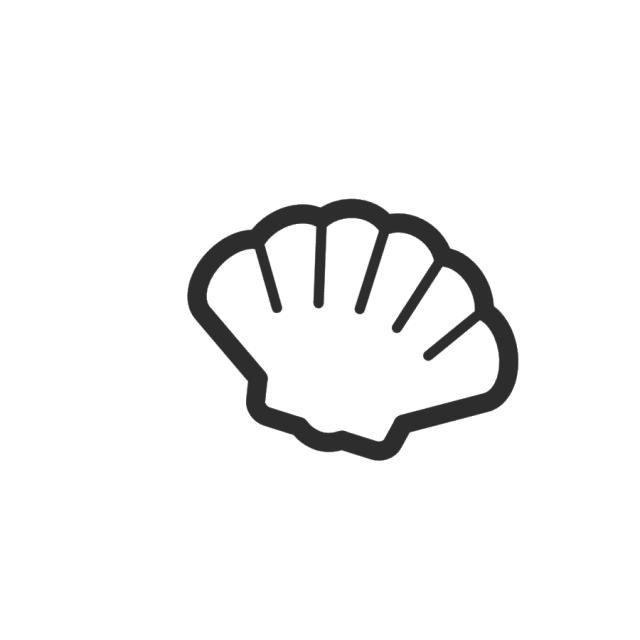shell: (180, 193, 524, 469)
